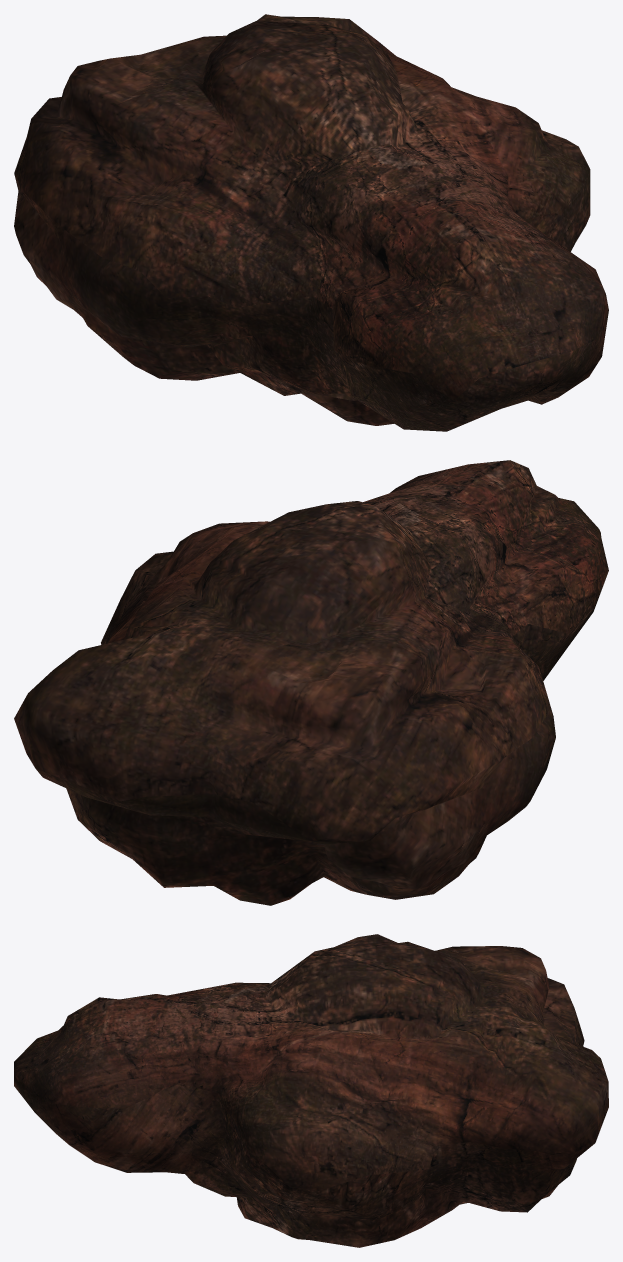
The model's file is rock_red_small05_projected.dae.
3 renders of one model, top to bottom at view 1: azimuth 30°, elevation 25°; view 2: azimuth 150°, elevation 25°; view 3: azimuth 270°, elevation 25°, orthographic. The views are drawn at different scales.
Visible parts, largest first — view 1: Mesh03; view 2: Mesh03; view 3: Mesh03.
Boxes of the visible parts, box(x1,y1,x2,y2) form: Mesh03: box(14, 14, 608, 431); Mesh03: box(14, 460, 608, 905); Mesh03: box(14, 934, 608, 1247).
Bounding box in the file's own units: 3.94 × 2.8 × 5.8.
